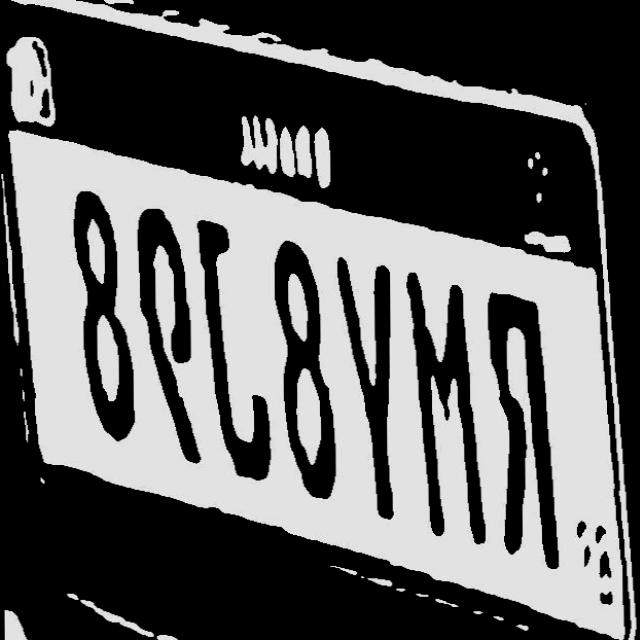8: (68, 190, 138, 443), (269, 242, 338, 498)
9: (129, 200, 200, 461)
j: (196, 214, 279, 484)
m: (403, 270, 489, 550)
r: (480, 289, 560, 577)
y: (334, 250, 404, 523)
